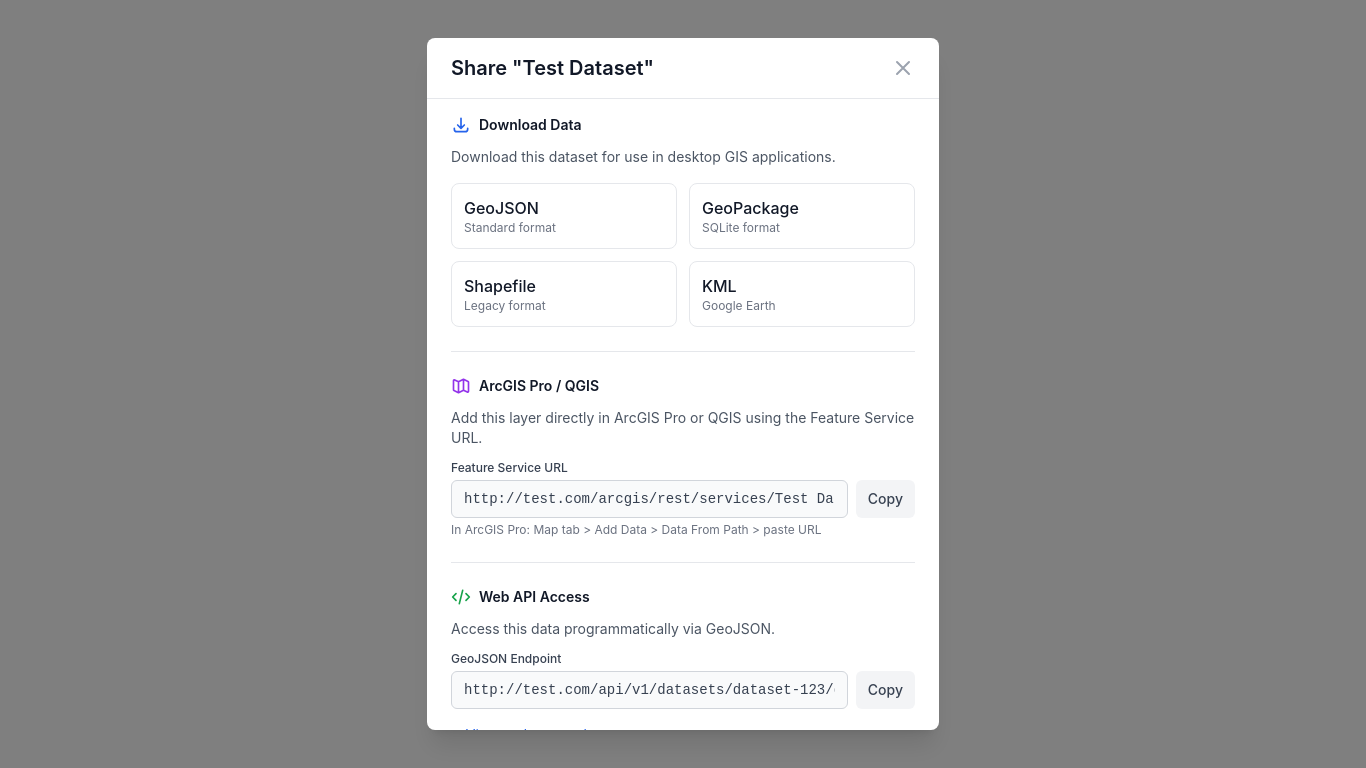
Test: ShareUrlModal › should show "Copied!" after copying
The width and height of the screenshot is (1366, 768).
Click the button "Copy" below "ArcGIS Pro / QGIS": (885, 499) [856,480,915,518]
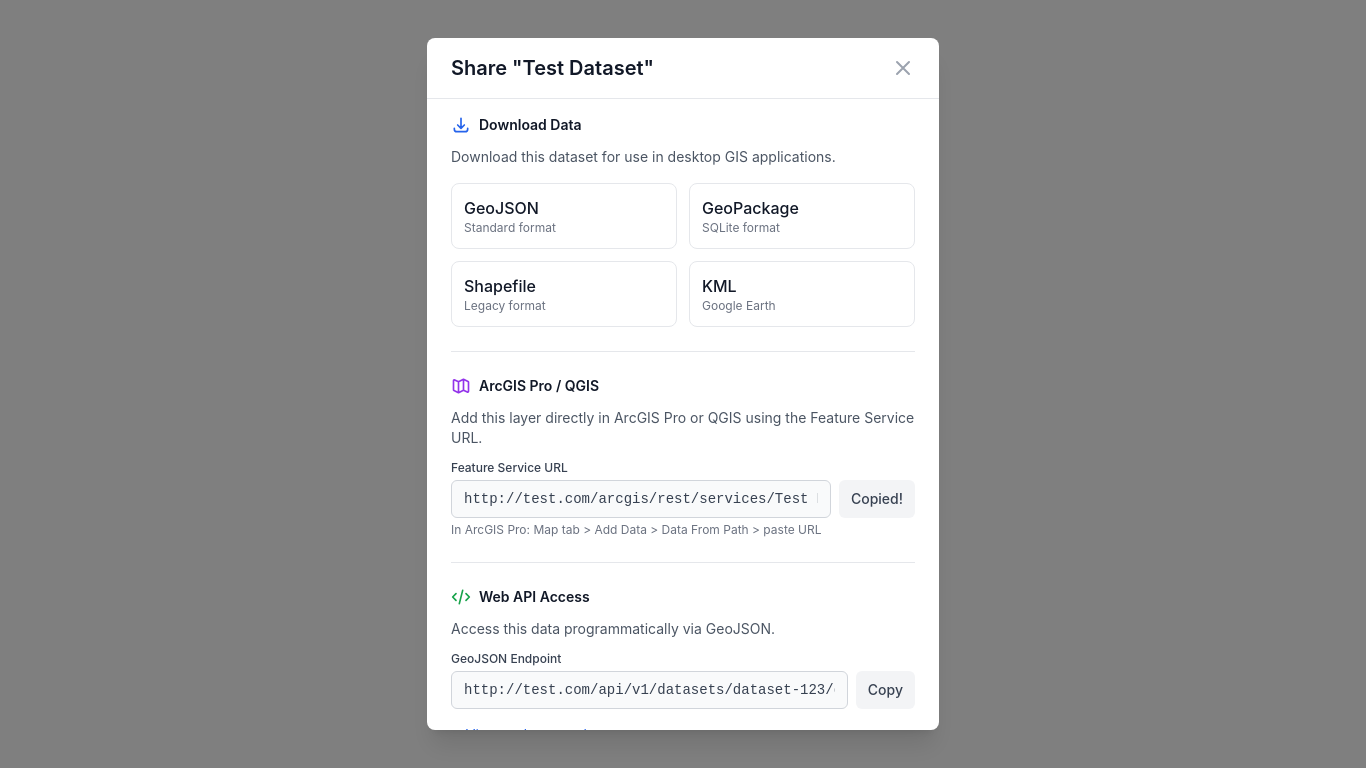
Check: the button "Copied!" is shown, box [839,480,915,518]
